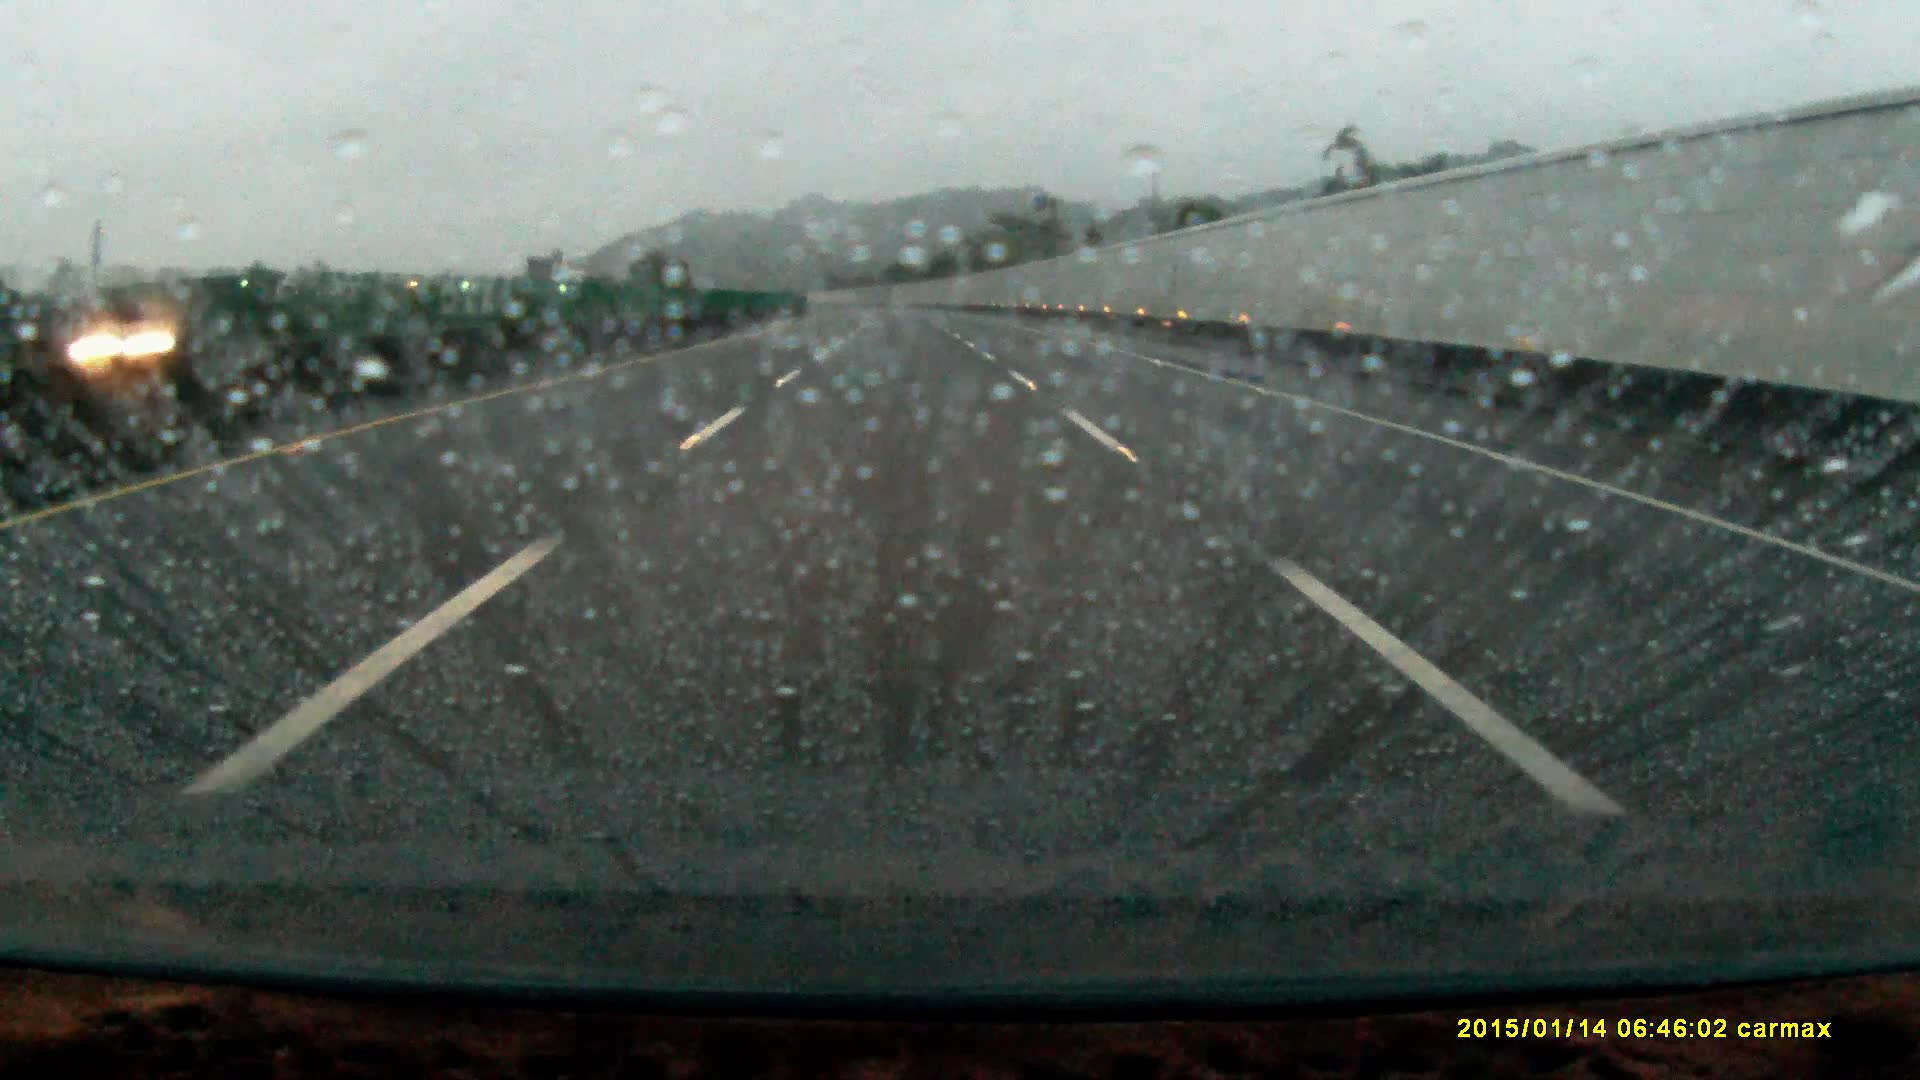vehicle: (76, 307, 208, 384)
